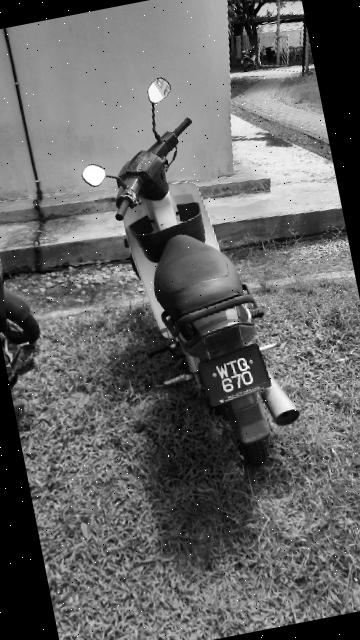License_Plate: (188, 340, 283, 411)
motorcycle: (59, 57, 340, 511)
